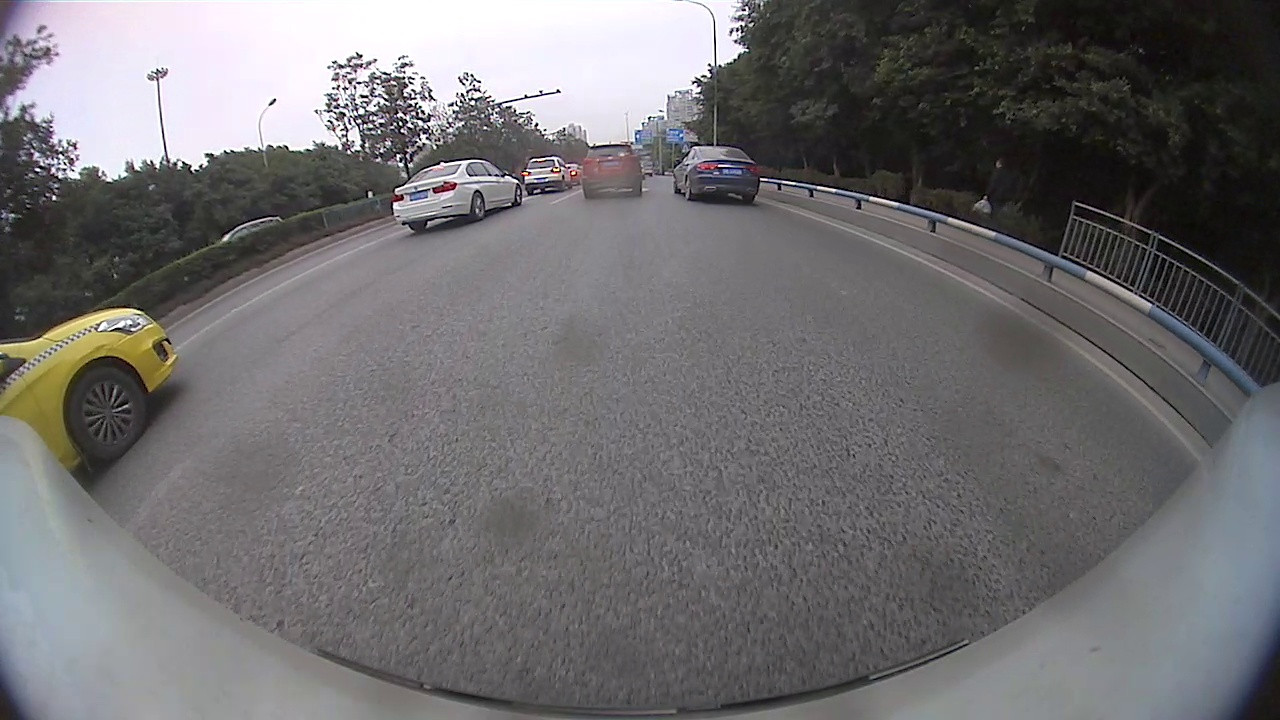car: (1, 305, 180, 474), (388, 156, 525, 233), (670, 142, 763, 205), (579, 143, 646, 202), (520, 153, 575, 196)
front: (68, 362, 150, 457), (515, 188, 528, 207)
person: (992, 154, 1008, 215)
rear: (472, 193, 487, 219)
